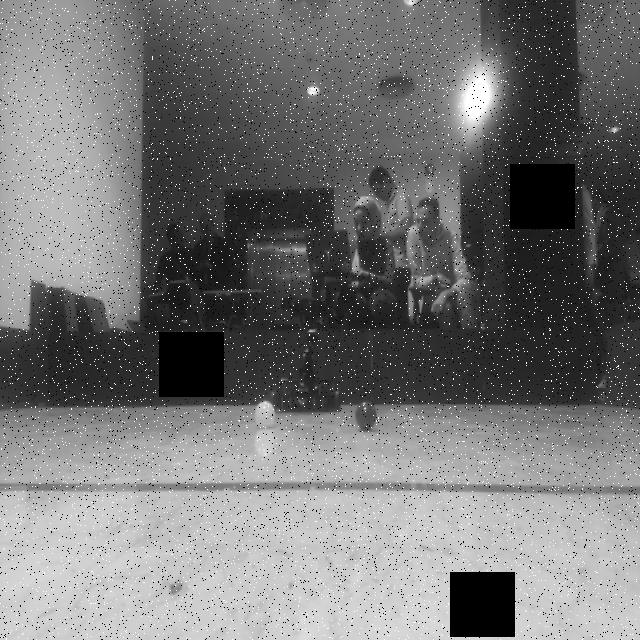ball: (353, 397, 382, 436), (252, 400, 277, 434)
